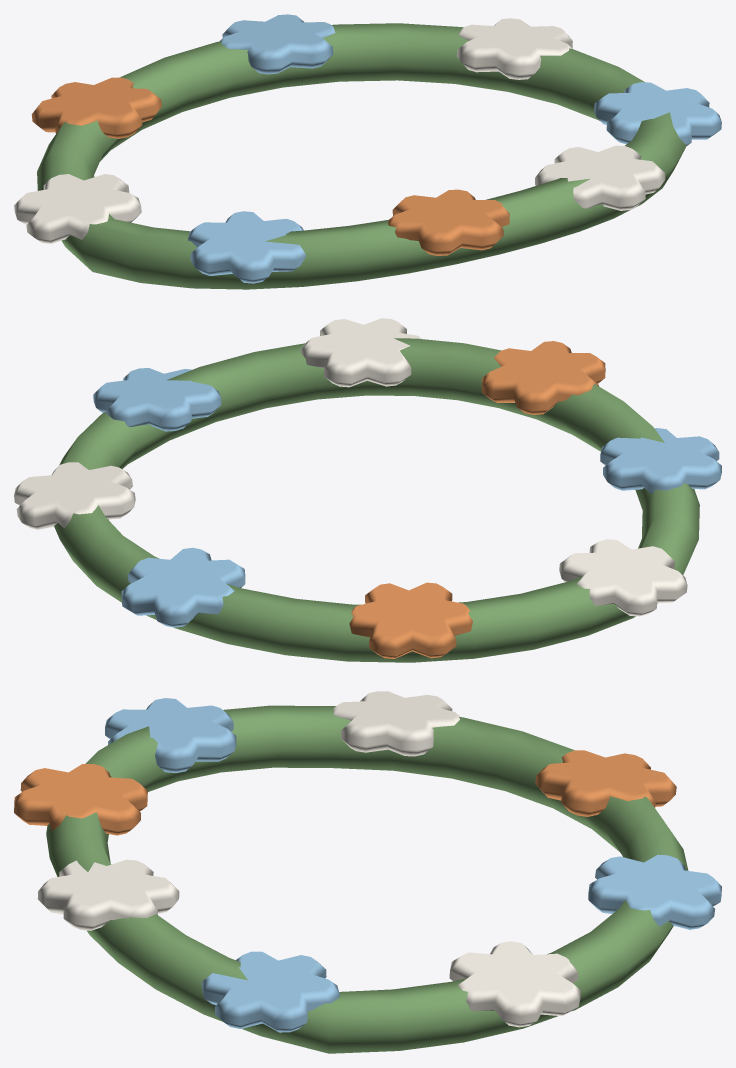
File: cool_hyacinth_crown.glb
3 views of the same model, one above another, from view 1: azimuth 30°, elevation 25°; view 2: azimuth 150°, elevation 25°; view 3: azimuth 270°, elevation 25° (orthographic). The views are drawn at different scales.
Visible parts, largest first — view 1: cool_hyacinth_crown_Head; view 2: cool_hyacinth_crown_Head; view 3: cool_hyacinth_crown_Head.
Part boxes in pixels (box(x1,y1,x2,y2)): cool_hyacinth_crown_Head: box(14, 14, 721, 289); cool_hyacinth_crown_Head: box(14, 318, 721, 662); cool_hyacinth_crown_Head: box(14, 691, 721, 1053).
Bounding box in the file's own units: 0.5576 × 0.0753 × 0.5003.
